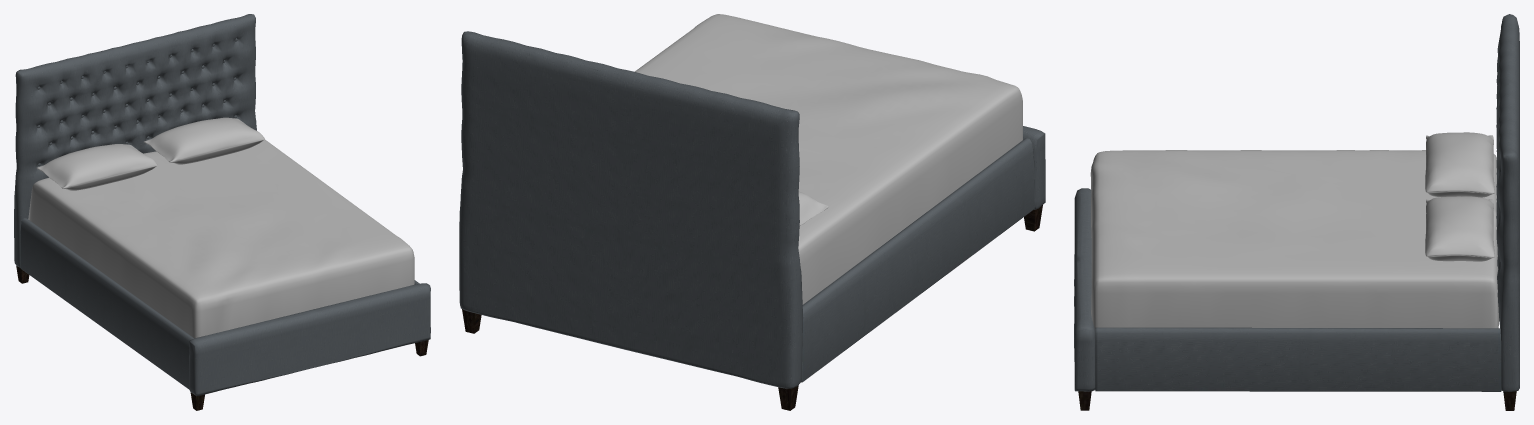
File: abo-B07B4YXWNY.glb
The picture shows the model from 3 angles, left to right: view 1: azimuth 30°, elevation 25°; view 2: azimuth 150°, elevation 25°; view 3: azimuth 270°, elevation 25°; orthographic projection. The views are drawn at different scales.
Bounding box in the file's own units: 1.7 × 1.43 × 2.23.
1 material, 1 textured.
